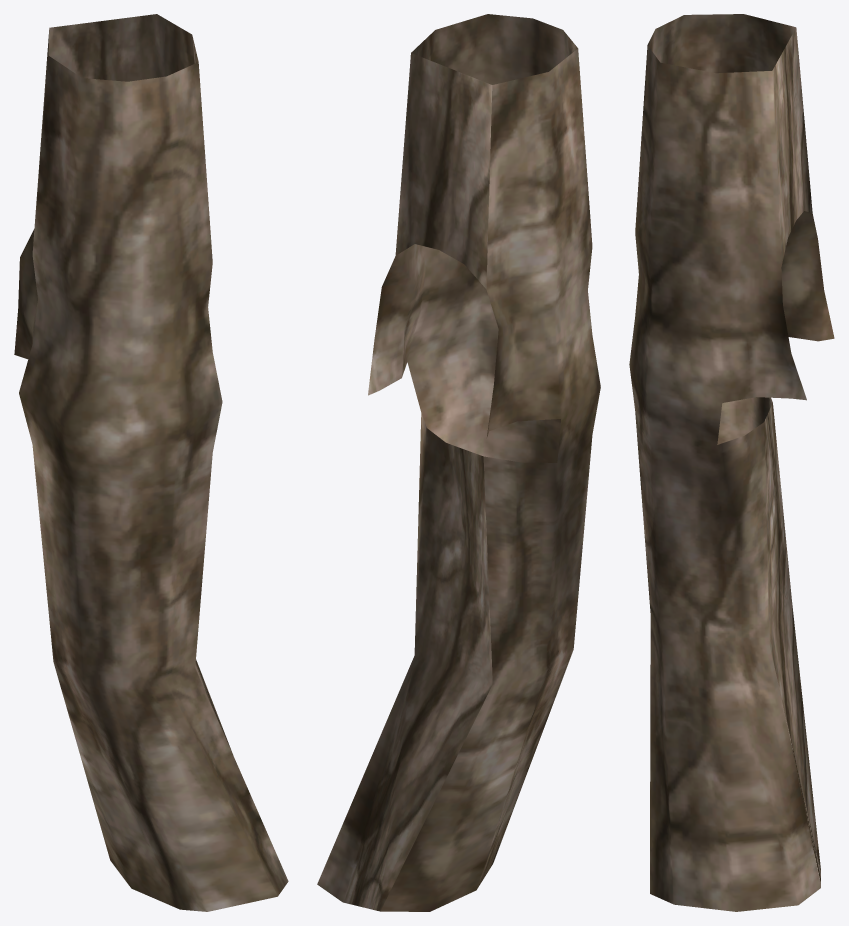
Rendered from EKH_JAIL_PS_JA_LADDERCAVE93838.fbx.
The picture shows the model from 3 angles, left to right: view 1: azimuth 30°, elevation 25°; view 2: azimuth 150°, elevation 25°; view 3: azimuth 270°, elevation 25°; orthographic projection. The views are drawn at different scales.
Visible parts, largest first — view 1: EKH_JAIL_PS_JA_LADDERCAVE93838; view 2: EKH_JAIL_PS_JA_LADDERCAVE93838; view 3: EKH_JAIL_PS_JA_LADDERCAVE93838.
Part boxes in pixels (x1=…): EKH_JAIL_PS_JA_LADDERCAVE93838: x1=14, y1=14, x2=288, y2=911; EKH_JAIL_PS_JA_LADDERCAVE93838: x1=317, y1=14, x2=600, y2=911; EKH_JAIL_PS_JA_LADDERCAVE93838: x1=629, y1=14, x2=834, y2=911.
Bounding box in the file's own units: 17359 × 58697 × 13673.
1 material, 1 textured.
